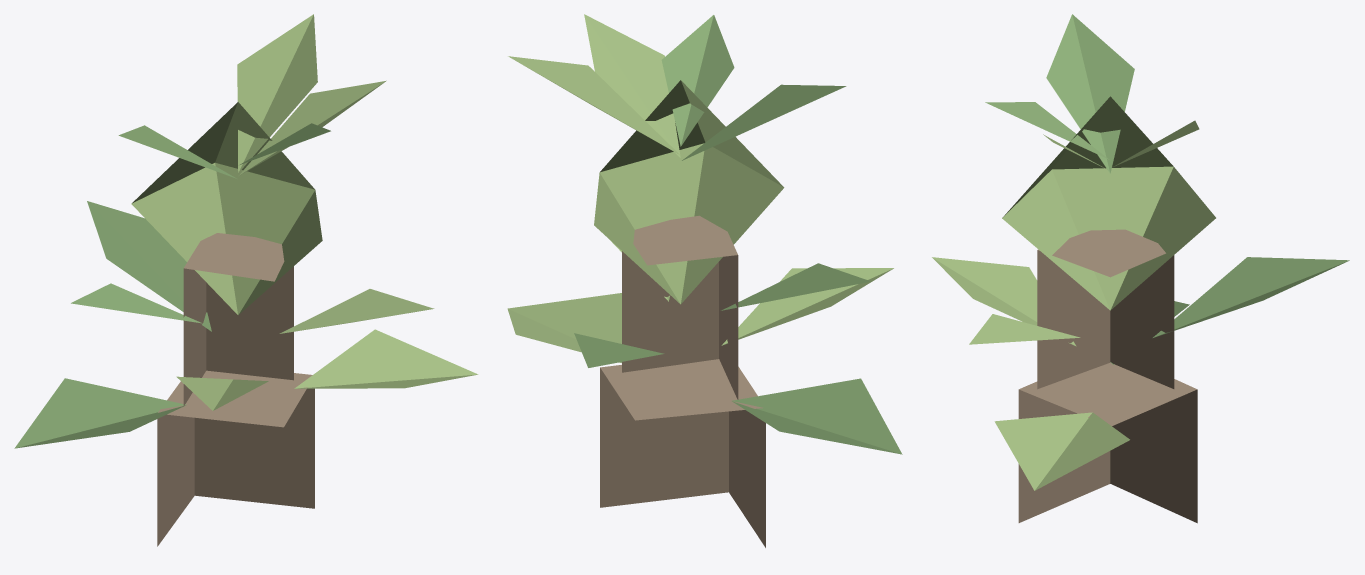
Rendered from cao.dixue@seedling__spring.glb.
The picture shows the model from 3 angles, left to right: view 1: azimuth 30°, elevation 25°; view 2: azimuth 150°, elevation 25°; view 3: azimuth 270°, elevation 25°; orthographic projection. The views are drawn at different scales.
Visible parts, largest first — view 1: cao.dixue@seedling__spring; view 2: cao.dixue@seedling__spring; view 3: cao.dixue@seedling__spring.
Part boxes in pixels (x1,y1,x2,y2): cao.dixue@seedling__spring: (14,14,478,546); cao.dixue@seedling__spring: (507,14,902,547); cao.dixue@seedling__spring: (932,14,1349,523).
Size of the model in its own units: 0.0816 by 0.0838 by 0.0703.
